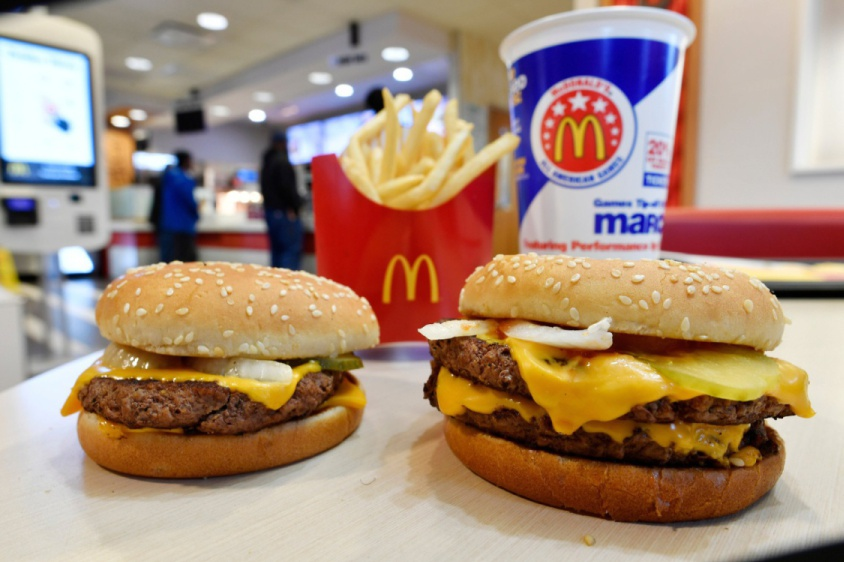mcdonalds: (377, 248, 443, 308), (551, 111, 607, 166)
